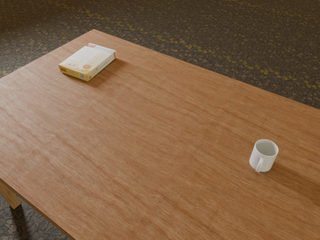box: (59, 43, 116, 81)
cup: (250, 139, 278, 172)
